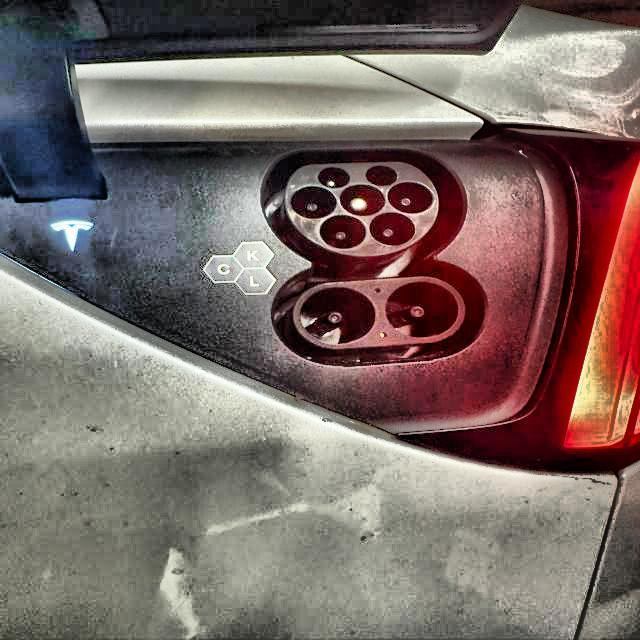inlet: (284, 162, 438, 256)
inlet-above-left: (319, 167, 350, 189)
inlet-above-right: (366, 165, 398, 186)
inlet-below-left: (320, 215, 367, 249)
inlet-below-right: (369, 212, 416, 246)
inlet-center: (339, 184, 386, 216)
inlet-center-left: (290, 186, 337, 219)
inlet-center-right: (387, 182, 434, 214)
